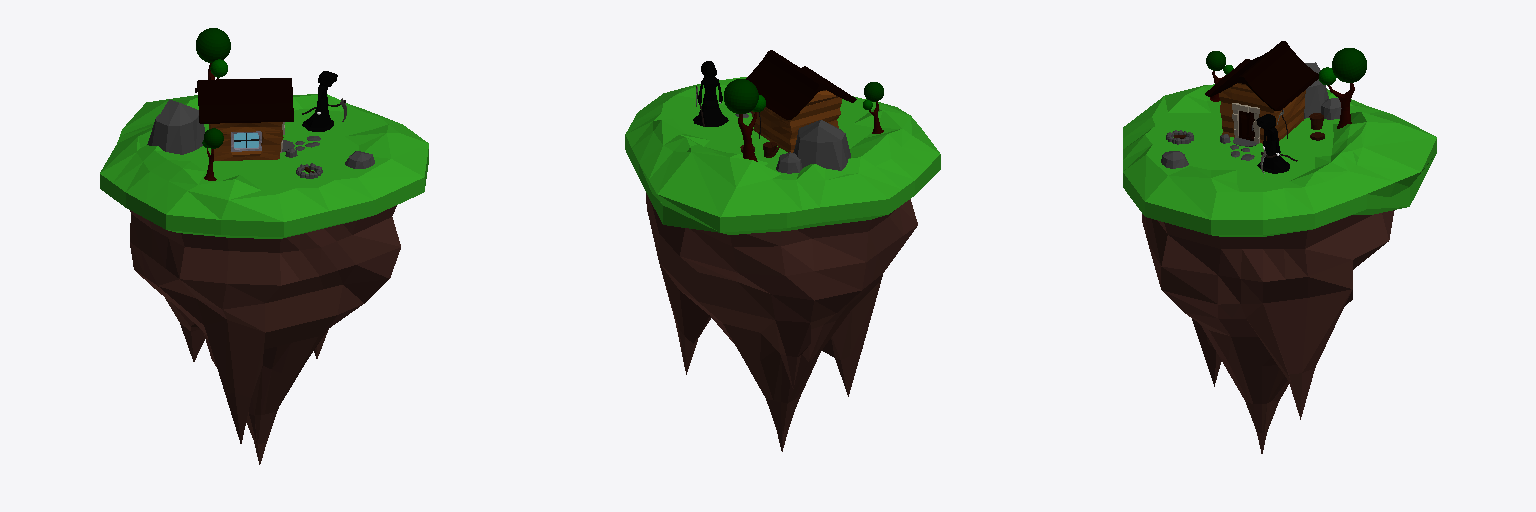
File: DeathsIsland.obj
The picture shows the model from 3 angles: view 1: azimuth 30°, elevation 25°; view 2: azimuth 150°, elevation 25°; view 3: azimuth 270°, elevation 25°; orthographic projection.
Parts seen in each view (by area): view 1: Cube, Cube.002, Cube.004_Cube.005, Plane.010_Plane.014, Sphere.001, Cube_Cube.000, Sphere.000_Sphere.002; view 2: Cube, Cube.002, Cube.004_Cube.005, Plane.010_Plane.014, Sphere.001, Cube_Cube.000, Sphere.000_Sphere.002; view 3: Cube.002, Cube, Cube.004_Cube.005, Sphere.001, Cube_Cube.000, Plane.010_Plane.014.
Part boxes in pixels (x1,y1,x2,y2): Cube: (130,205,400,464); Cube.002: (100,94,428,238); Cube.004_Cube.005: (195,78,293,160); Plane.010_Plane.014: (147,99,204,154); Sphere.001: (196,28,230,79); Cube_Cube.000: (302,71,337,131); Sphere.000_Sphere.002: (202,128,223,180); Cube: (646,193,917,451); Cube.002: (625,77,940,234); Cube.004_Cube.005: (746,50,856,152); Plane.010_Plane.014: (793,120,850,170); Sphere.001: (724,79,765,161); Cube_Cube.000: (693,61,728,126); Sphere.000_Sphere.002: (863,82,883,133); Cube.002: (1123,84,1436,236); Cube: (1142,210,1394,453); Cube.004_Cube.005: (1205,41,1318,143); Sphere.001: (1319,48,1366,128); Cube_Cube.000: (1256,114,1289,173); Plane.010_Plane.014: (1304,62,1328,118).
Bounding box in the file's own units: 53.75 × 75.07 × 52.75.